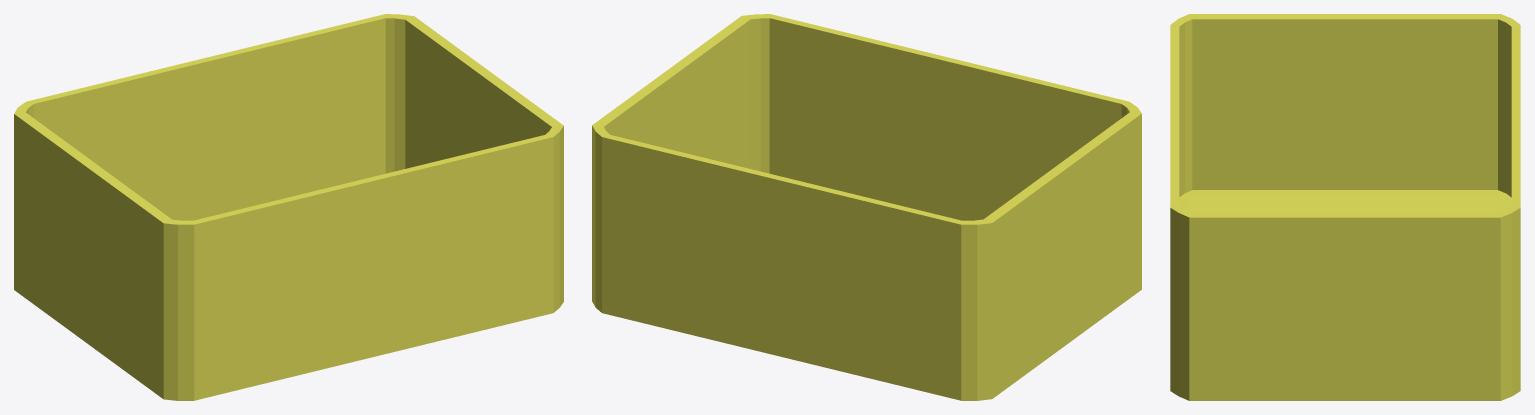
File: GGJ-Lunchbox1.fbx
3 views of the same model, side by side, from view 1: azimuth 30°, elevation 25°; view 2: azimuth 150°, elevation 25°; view 3: azimuth 270°, elevation 25° (orthographic). The views are drawn at different scales.
Visible parts, largest first — view 1: Lunchbox; view 2: Lunchbox; view 3: Lunchbox.
Boxes of the visible parts, left/top/right/bottom form: Lunchbox: left=14, top=14, right=563, bottom=400; Lunchbox: left=592, top=14, right=1141, bottom=400; Lunchbox: left=1170, top=14, right=1520, bottom=400.
Size of the model in its own units: 52.76 by 72.55 by 30.51.
